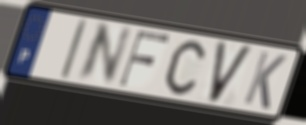C: (163, 38, 207, 97)
F: (116, 29, 173, 90)
I: (57, 18, 90, 83)
K: (241, 49, 289, 112)
N: (73, 22, 135, 85)
V: (208, 39, 257, 107)
